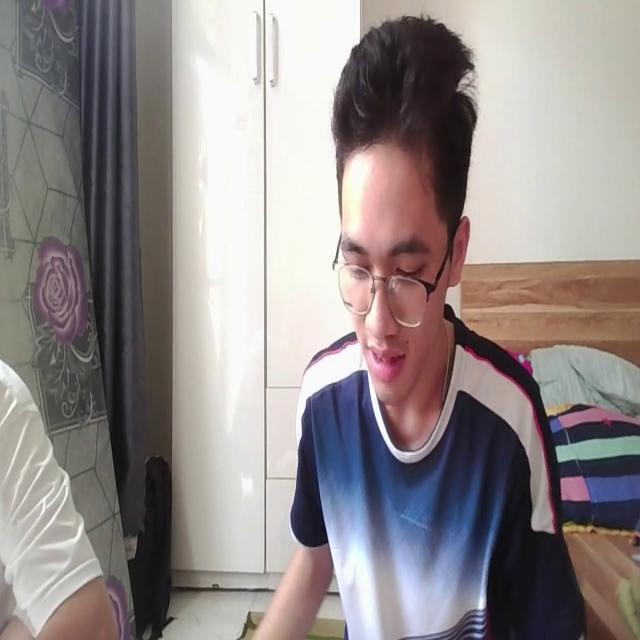student: (244, 10, 585, 640)
